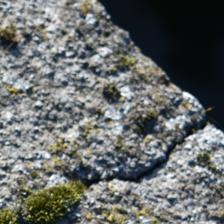Crack: (47, 57, 165, 136)
